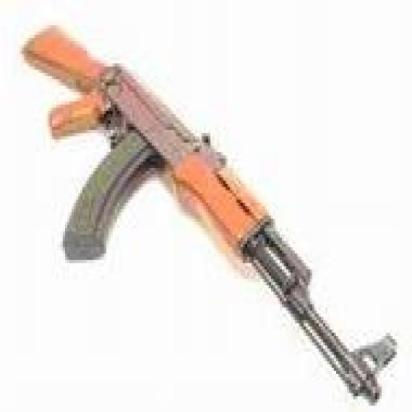Gun: (19, 15, 394, 412)
